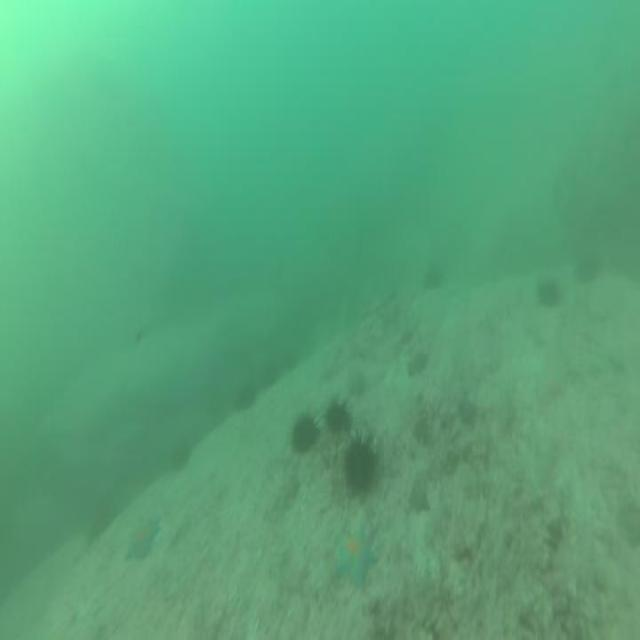echinus: (338, 420, 381, 500), (288, 404, 321, 462), (320, 390, 353, 441), (166, 438, 194, 476), (535, 276, 564, 312), (574, 253, 601, 284), (258, 362, 280, 390), (234, 386, 257, 412), (422, 267, 444, 292), (282, 348, 300, 373)
starfish: (328, 526, 380, 591), (125, 509, 163, 569), (456, 384, 480, 431), (404, 482, 432, 518), (406, 349, 429, 381)
